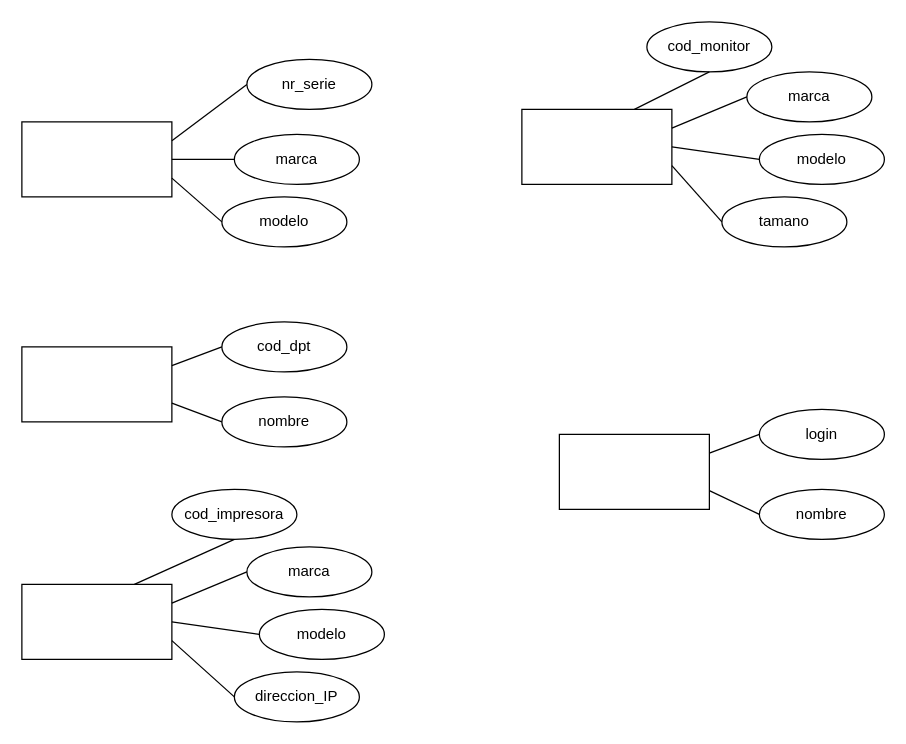
Some shapes in this 906 by 744 pixel diagram are drawn without their labels. The box of each missing label's shape, as (x1, y1, x2, y2) in pixels:
DEPARTAMENTO: (21, 346, 172, 422)
IMPRESORA: (21, 583, 172, 659)
MONITOR: (521, 108, 672, 184)
ORDENADOR: (21, 121, 172, 197)
USUARIO: (558, 433, 709, 509)
